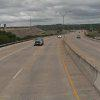Car: (32, 32, 47, 52)
